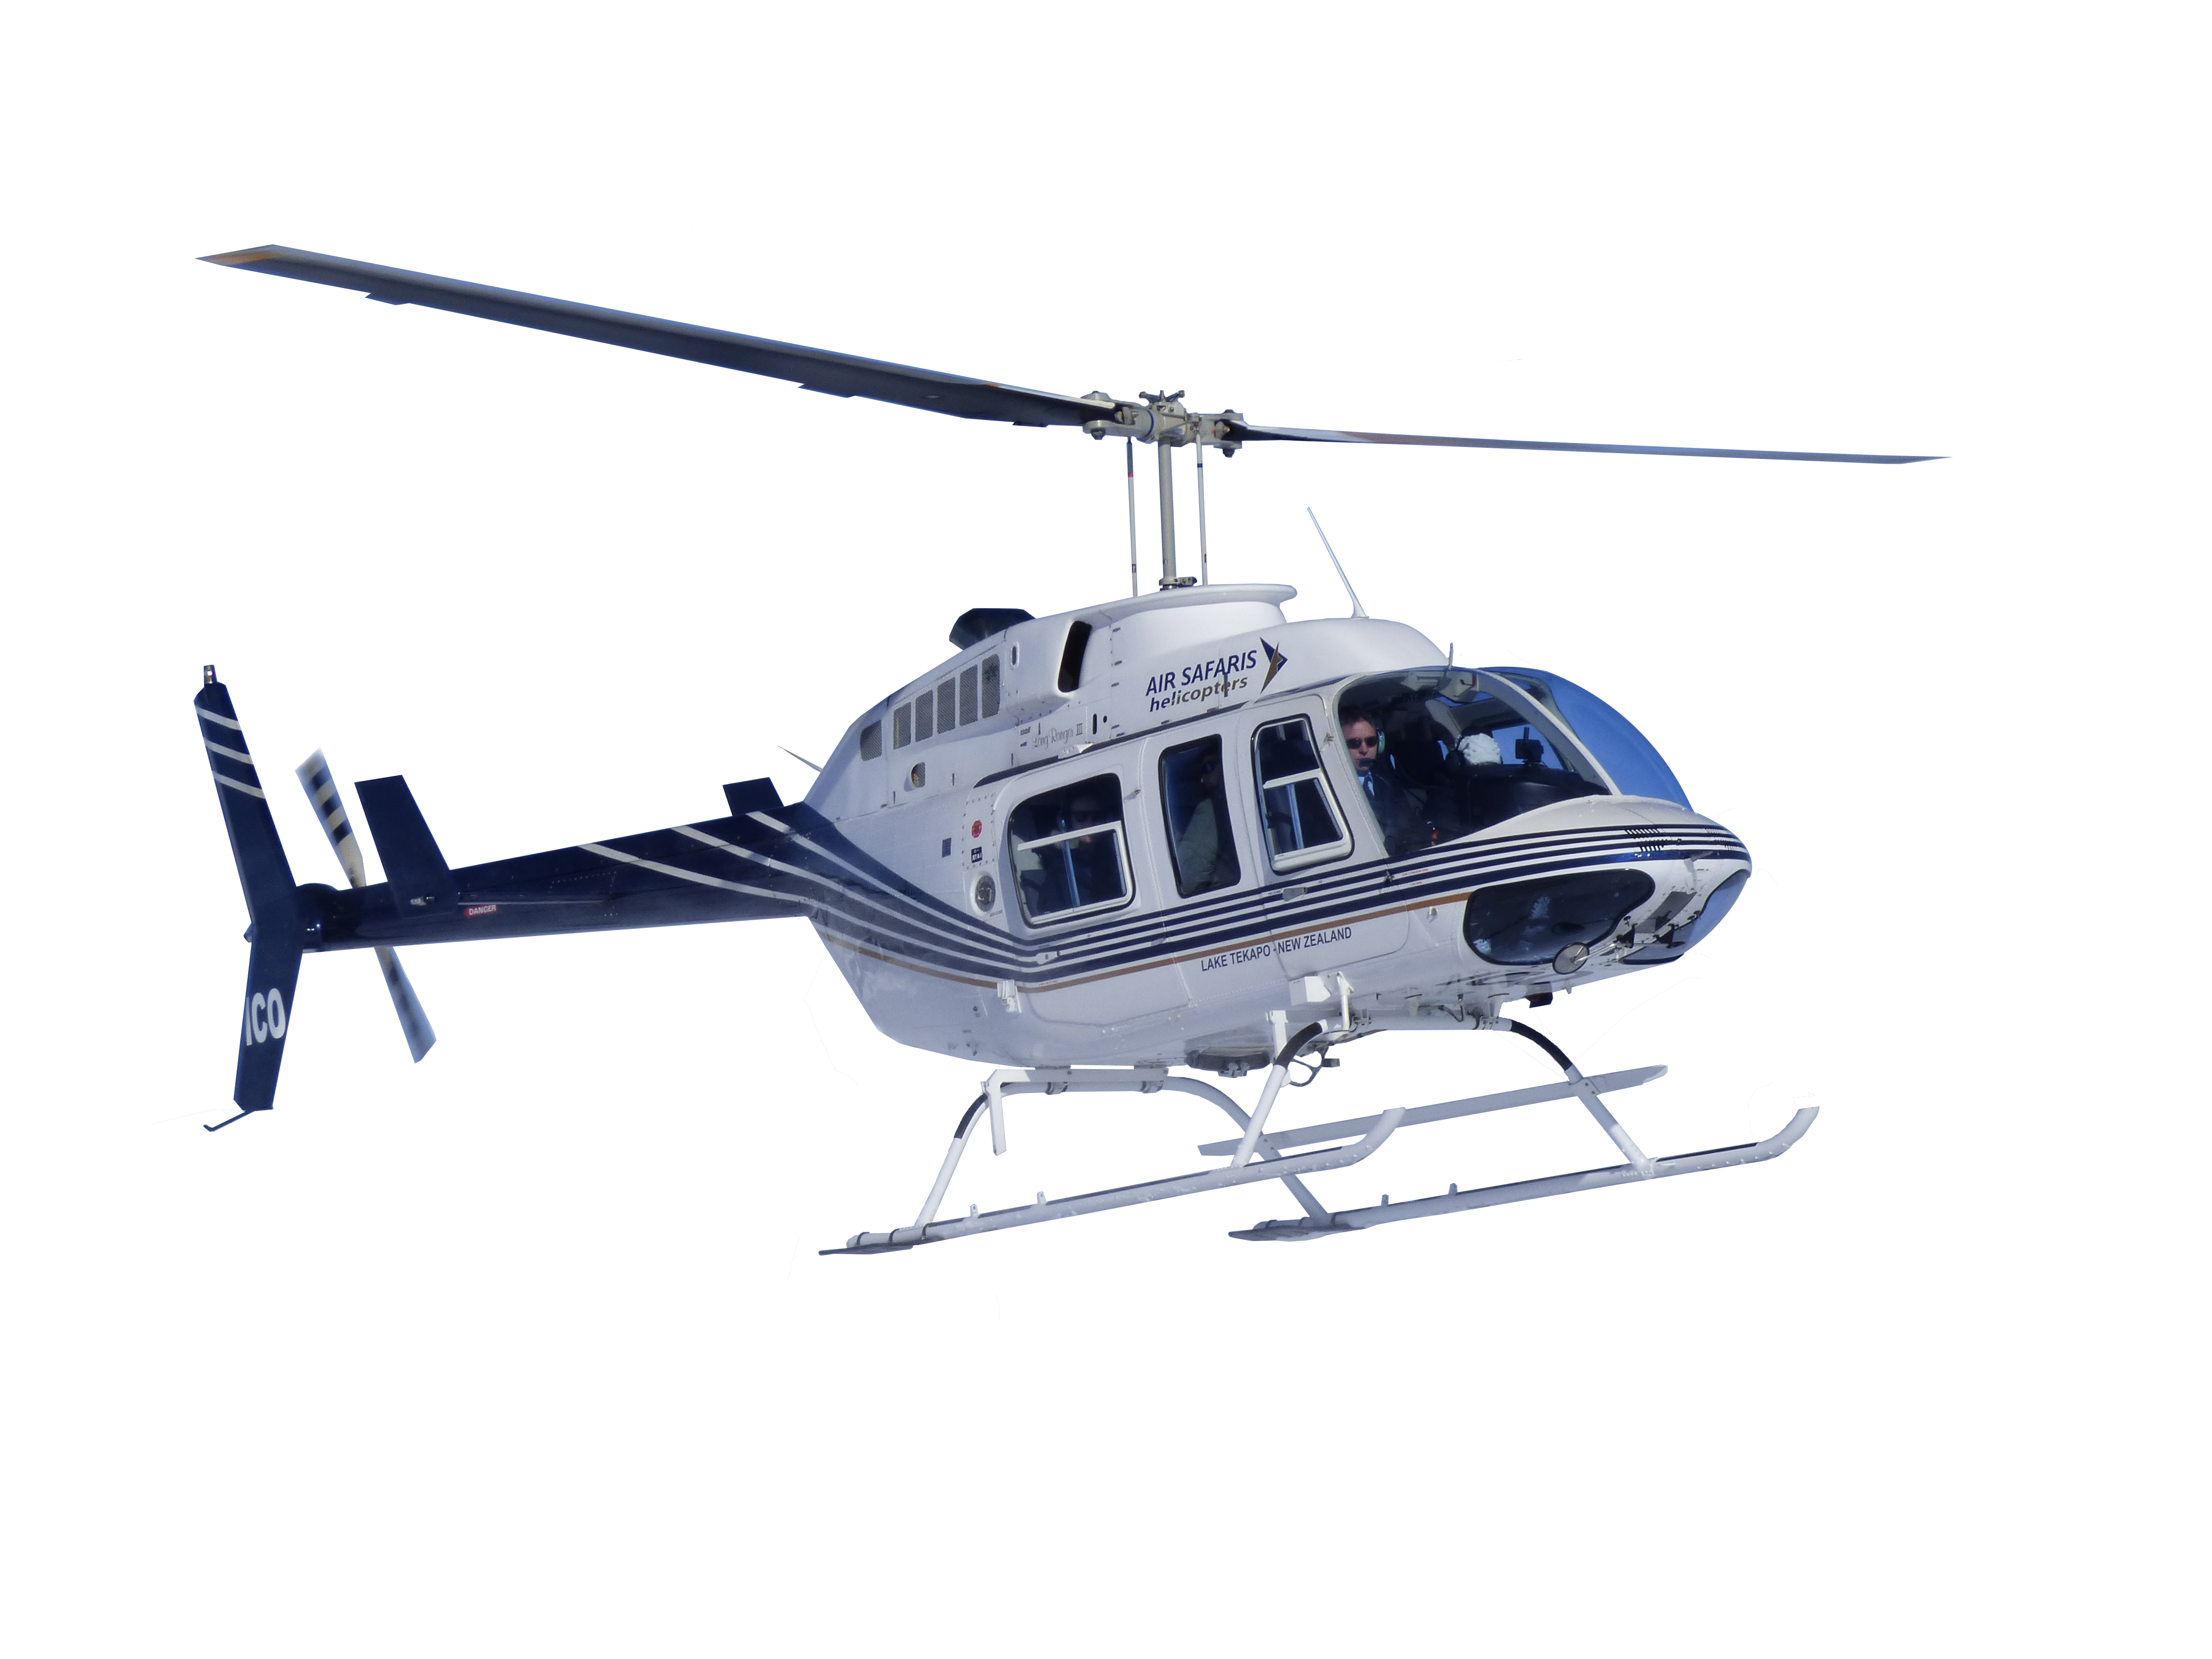Helicopter: (185, 225, 1900, 1291)
